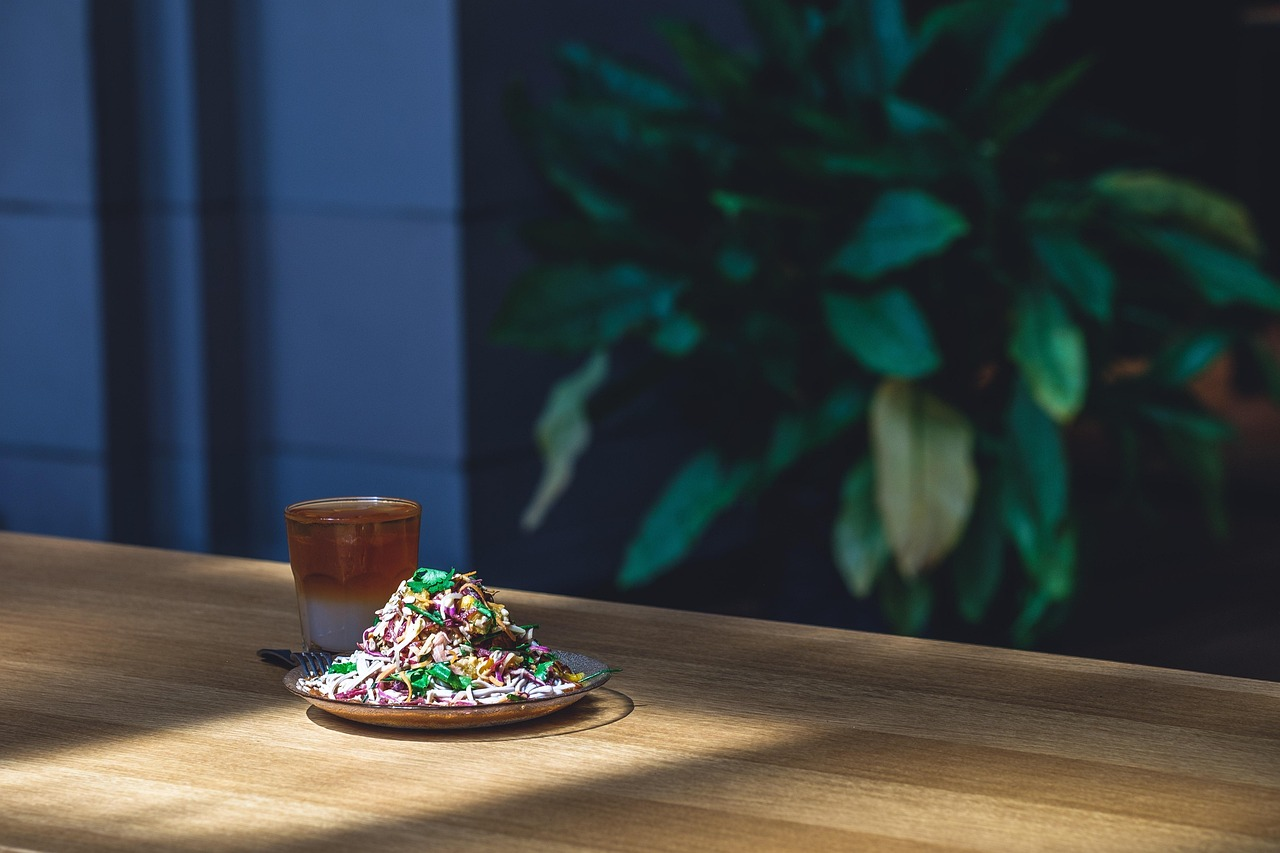mug: (260, 483, 452, 665)
